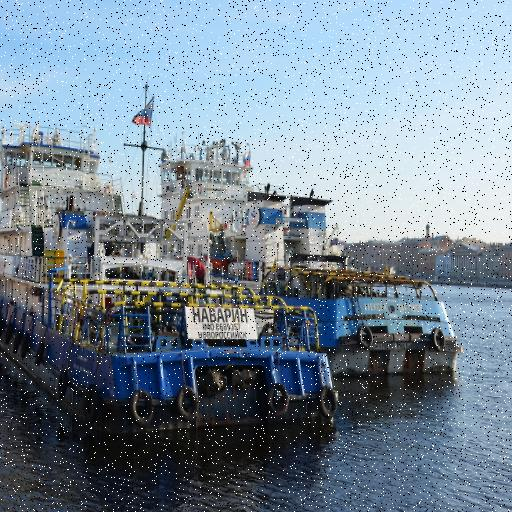tugboat: (1, 121, 342, 453)
